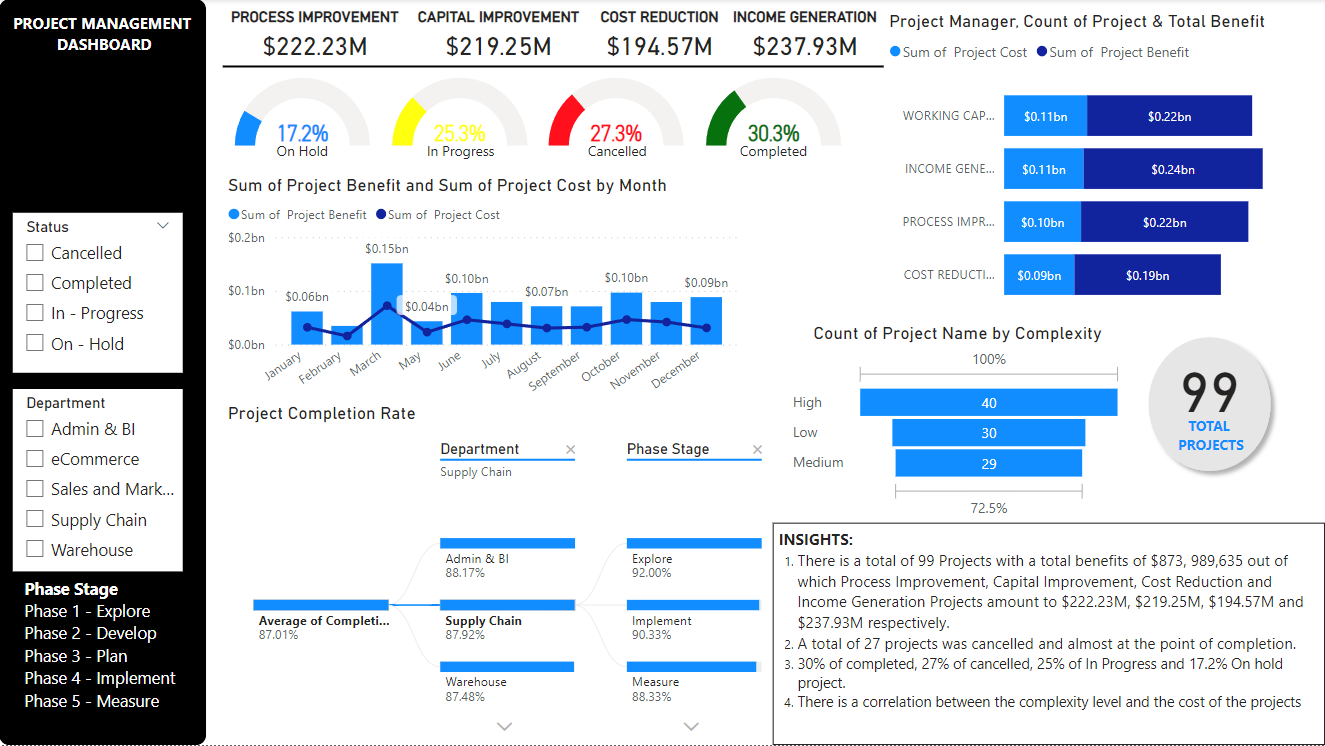

The page's visual inventory and layout, read from the dashboard file:
{"tool":"powerbi","page":{"name":"Page 1","canvas":[1280,720],"ordinal":0},"visuals":[{"type":"card","title":"INCOME GENERATION","fields":{"Values":["projects.total income generation"]},"box":[702.5,8.8,151.2,60],"z":0},{"type":"card","title":"PROCESS IMPROVEMENT","fields":{"Values":["projects.total process improvement"]},"box":[216.2,8.8,177.5,60],"z":1000},{"type":"card","title":"COST REDUCTION","fields":{"Values":["projects.total cost reduction"]},"box":[571.2,8.8,131.2,60],"z":2000},{"type":"card","title":"CAPITAL IMPROVEMENT","fields":{"Values":["projects.total capital improvement"]},"box":[393.8,8.8,177.5,60],"z":3000},{"type":"lineStackedColumnComboChart","fields":{"Y":["Sum(projects. Project Benefit )"],"Y2":["Sum(projects. Project Cost )"],"Category":["projects.End Date.Variation.Date Hierarchy.Month"]},"box":[215.9,168.8,502.9,226.7],"z":4000},{"type":"funnel","fields":{"Category":["projects.Complexity"],"Y":["CountNonNull(projects.Project Name)"]},"box":[761,312.4,328,193],"z":5000},{"type":"gauge","fields":{"Y":["projects.% proj on-hold"]},"box":[217.2,70.8,151.2,75],"z":6000},{"type":"shape","box":[0,0,200,720],"z":7000},{"type":"textbox","box":[3.8,8.8,196.2,53.8],"z":8000},{"type":"shape","box":[216.2,61.2,637.5,7.5],"z":9000},{"type":"textbox","box":[255,132.5,76.2,32.5],"z":10000},{"type":"gauge","fields":{"Y":["projects.% proj in progress"]},"box":[368.8,71.2,151.2,75],"z":11000},{"type":"textbox","box":[402.5,132.5,85,32.5],"z":12000},{"type":"gauge","fields":{"Y":["projects.% proj cancelled"]},"box":[520,71.2,151.2,75],"z":13000},{"type":"textbox","box":[543.8,132.5,105,32.5],"z":14000},{"type":"gauge","fields":{"Y":["projects.% proj completed"]},"box":[671.2,71.2,151.2,75],"z":15000},{"type":"textbox","box":[695,132.5,105,32.5],"z":16000},{"type":"decompositionTreeVisual","title":"Project Completion Rate","fields":{"Analyze":["Avg(projects.Completion%)"],"ExplainBy":["projects.Department","projects.Phase Stage"]},"box":[215.9,389.5,530.7,326.8],"z":17000},{"type":"barChart","title":"Project Manager, Count of Project & Total Benefit","fields":{"Category":["projects.Project Type"],"Y":["Sum(projects. Project Cost )","Sum(projects. Project Benefit )"]},"box":[853.9,10.9,411.3,301.5],"z":18000},{"type":"textbox","box":[19.3,552.4,164,149.5],"z":19000},{"type":"slicer","fields":{"Values":["projects.Department"]},"box":[13.3,376.3,164,176.1],"z":20000},{"type":"textbox","box":[746.5,505.3,533.1,214.7],"z":21000},{"type":"slicer","fields":{"Values":["projects.Status"]},"box":[13.3,206.2,164,154.4],"z":22000},{"type":"shape","box":[1099.9,317.2,136.3,147.1],"z":24001},{"type":"card","fields":{"Values":["Count(projects.Project Name)"]},"box":[1111,334.6,114.6,77.2],"z":24501},{"type":"textbox","box":[1099.9,398,138.7,48.2],"z":25001}]}

Visuals, with their boxes in screenshot pixels (x1, y1, x2, y2), scaled from the page's 1280x720 canvas onto the 1325x746 screenshot:
"INCOME GENERATION" card: [727, 9, 884, 71]
"PROCESS IMPROVEMENT" card: [224, 9, 408, 71]
"COST REDUCTION" card: [591, 9, 727, 71]
"CAPITAL IMPROVEMENT" card: [408, 9, 591, 71]
lineStackedColumnComboChart - Sum(projects. Project Benefit ) x Sum(projects. Project Cost ): [223, 175, 744, 410]
funnel - projects.Complexity x CountNonNull(projects.Project Name): [788, 324, 1127, 524]
gauge - projects.% proj on-hold: [225, 73, 381, 151]
shape: [0, 0, 207, 745]
textbox: [4, 9, 207, 65]
shape: [224, 63, 884, 71]
textbox: [264, 137, 343, 171]
gauge - projects.% proj in progress: [382, 74, 538, 151]
textbox: [417, 137, 505, 171]
gauge - projects.% proj cancelled: [538, 74, 695, 151]
textbox: [563, 137, 672, 171]
gauge - projects.% proj completed: [695, 74, 851, 151]
textbox: [719, 137, 828, 171]
"Project Completion Rate" decompositionTreeVisual: [223, 404, 773, 742]
"Project Manager, Count of Project & Total Benefit" barChart: [884, 11, 1310, 324]
textbox: [20, 572, 190, 727]
slicer - projects.Department: [14, 390, 184, 572]
textbox: [773, 524, 1324, 745]
slicer - projects.Status: [14, 214, 184, 374]
shape: [1139, 329, 1280, 481]
card - Count(projects.Project Name): [1150, 347, 1269, 427]
textbox: [1139, 412, 1282, 462]
